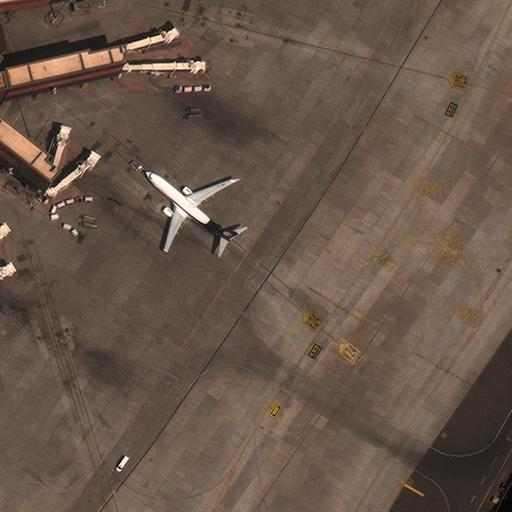Medium Civil Transport: (145, 172, 230, 250)
